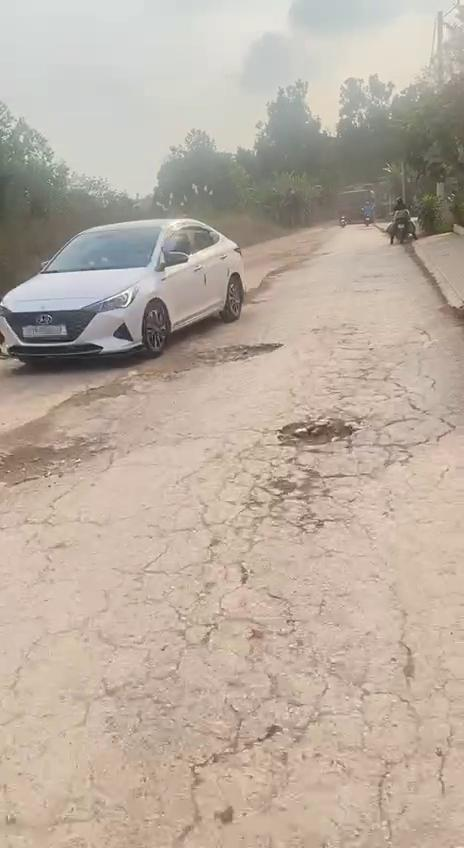pothole: (0, 432, 112, 490), (271, 410, 356, 450)
